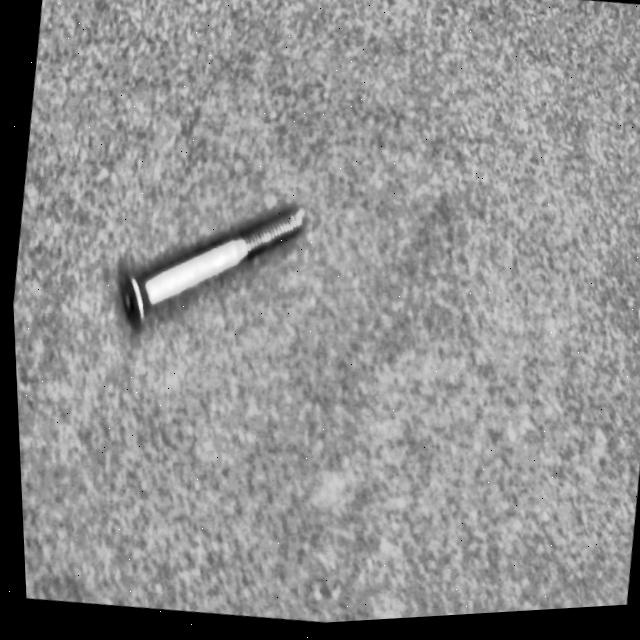Flat head socket screw: (100, 177, 311, 357)
